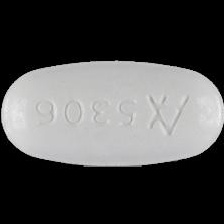60429-309: (0, 0, 224, 224)
